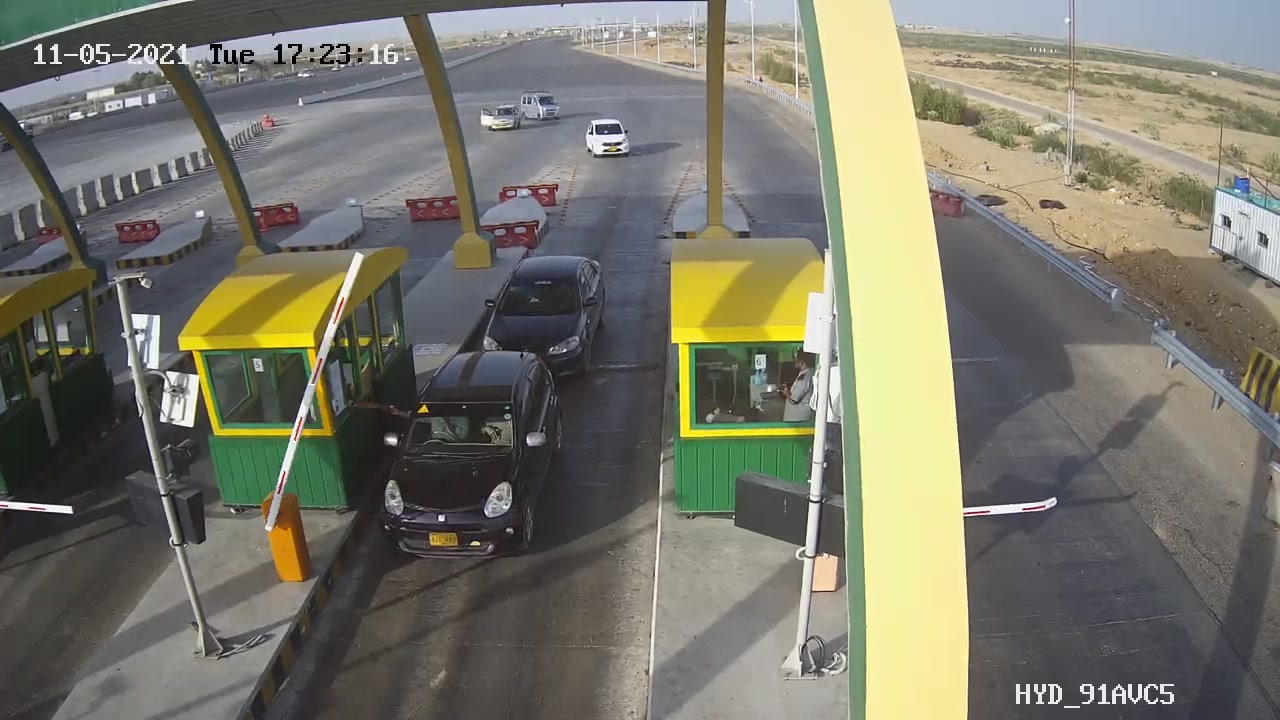F1: (357, 336, 579, 577), (468, 243, 620, 395)
